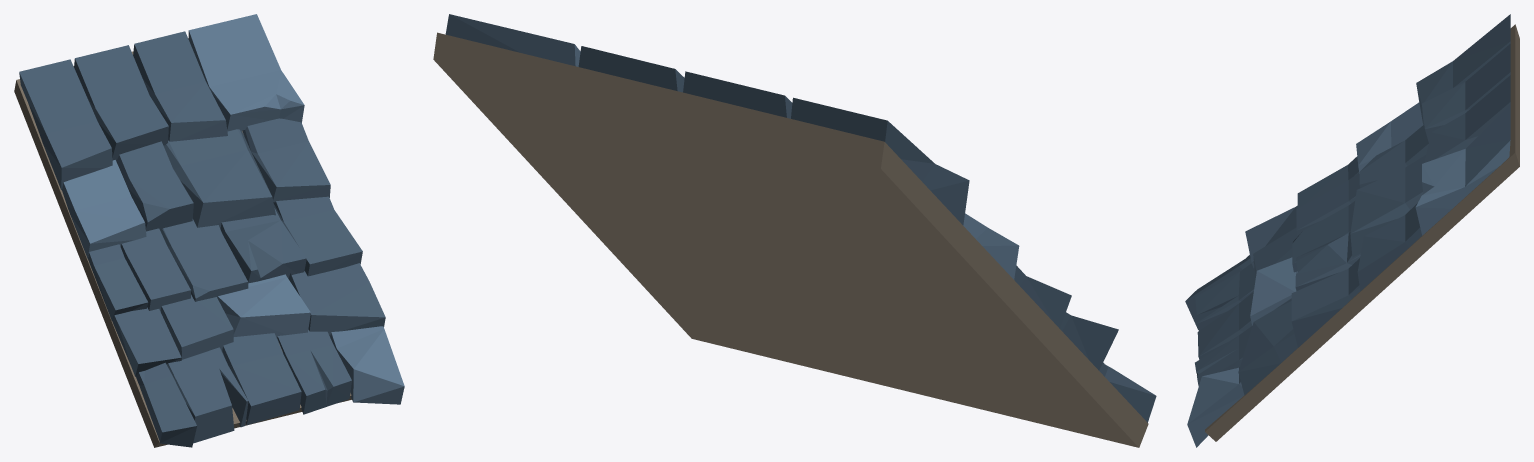
File: _ROOF_base_1.fbx
3 views of the same model, side by side, from view 1: azimuth 30°, elevation 25°; view 2: azimuth 150°, elevation 25°; view 3: azimuth 270°, elevation 25° (orthographic). The views are drawn at different scales.
Parts seen in each view (by area): view 1: ROOF_base_1; view 2: ROOF_base_1; view 3: ROOF_base_1.
Boxes of the visible parts, <box> form: ROOF_base_1: <box>14,14,404,447</box>; ROOF_base_1: <box>433,14,1156,447</box>; ROOF_base_1: <box>1185,14,1519,447</box>.
Size of the model in its own units: 101 by 112 by 110.
